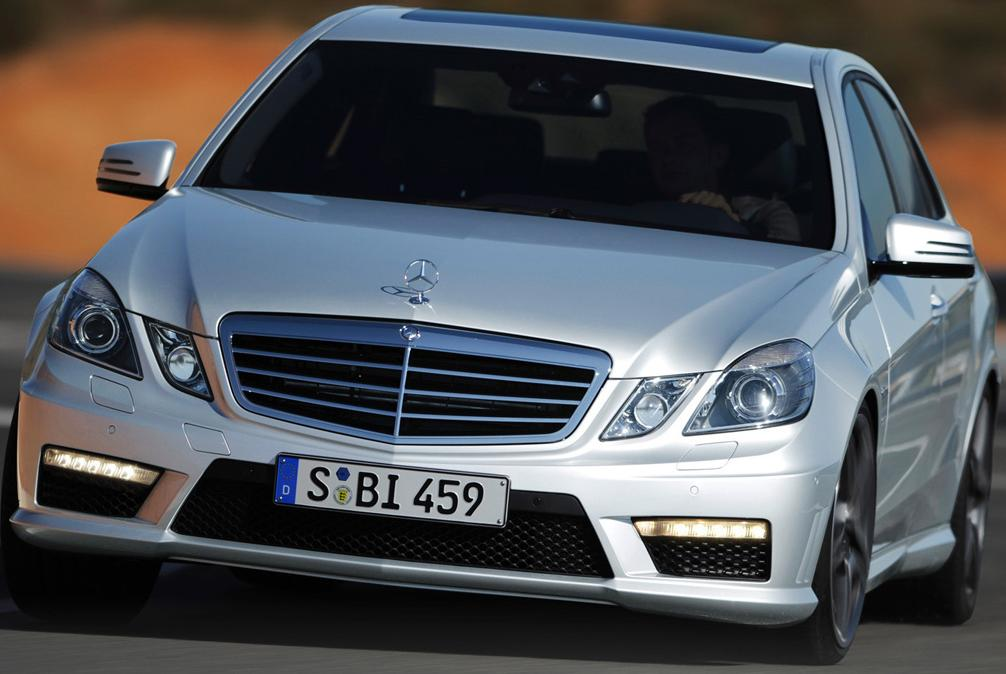front_view: (44, 266, 852, 637)
headlight: (581, 339, 821, 485)
side_glass: (818, 75, 958, 235)
